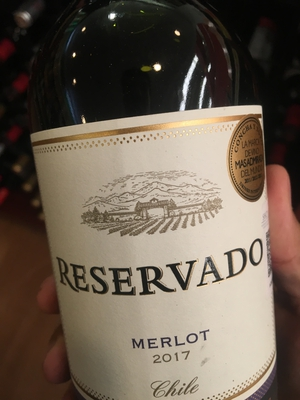reservado merlot: (25, 23, 278, 400)
